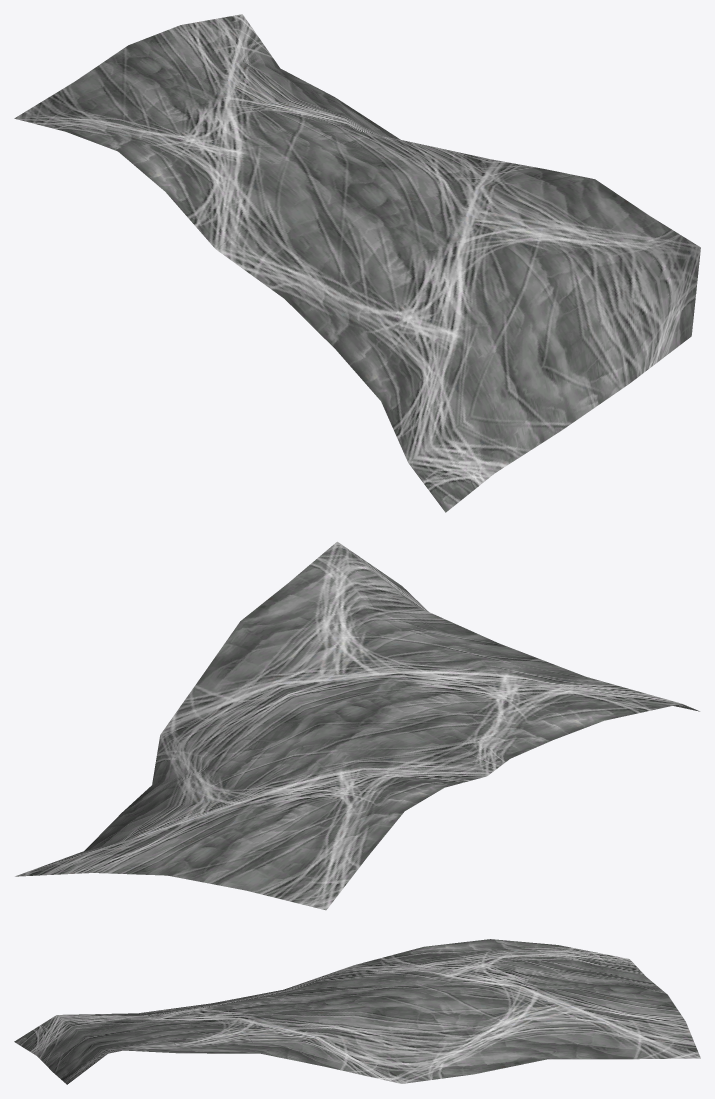
The model's file is SWORDLIGHT20_PS-AREA01_31.fbx.
3 renders of one model, top to bottom at view 1: azimuth 30°, elevation 25°; view 2: azimuth 150°, elevation 25°; view 3: azimuth 270°, elevation 25°, orthographic. The views are drawn at different scales.
Visible parts, largest first — view 1: SWORDLIGHT20_PS-AREA01_31; view 2: SWORDLIGHT20_PS-AREA01_31; view 3: SWORDLIGHT20_PS-AREA01_31.
Part boxes in pixels (x1,y1,x2,y2): SWORDLIGHT20_PS-AREA01_31: [14, 14, 700, 512]; SWORDLIGHT20_PS-AREA01_31: [15, 541, 699, 910]; SWORDLIGHT20_PS-AREA01_31: [14, 939, 700, 1084].
Size of the model in its own units: 65343 by 26573 by 153210.
1 material, 1 textured.
